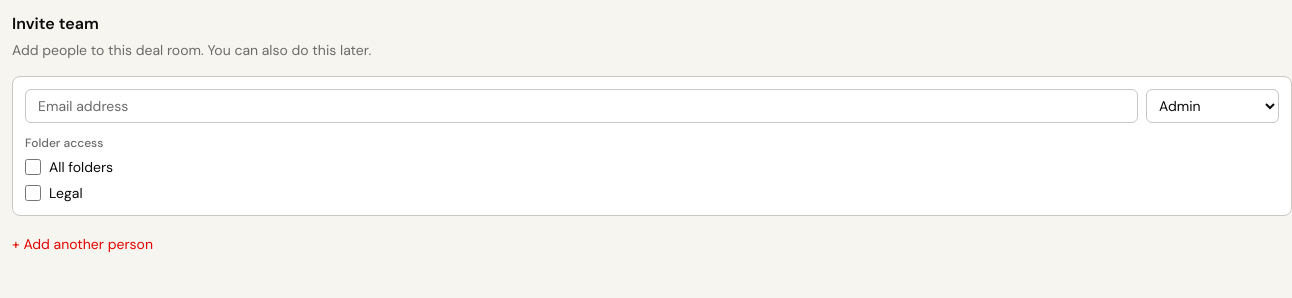
StepInvite › shows folder hint when non-admin/non-cis_team role has no folders selected
// Change to 'client' to trigger hint (default admin doesn't show hint)
Select "Client" in the dropdown named "role 1" at (1212, 106), box [1146, 89, 1279, 123]
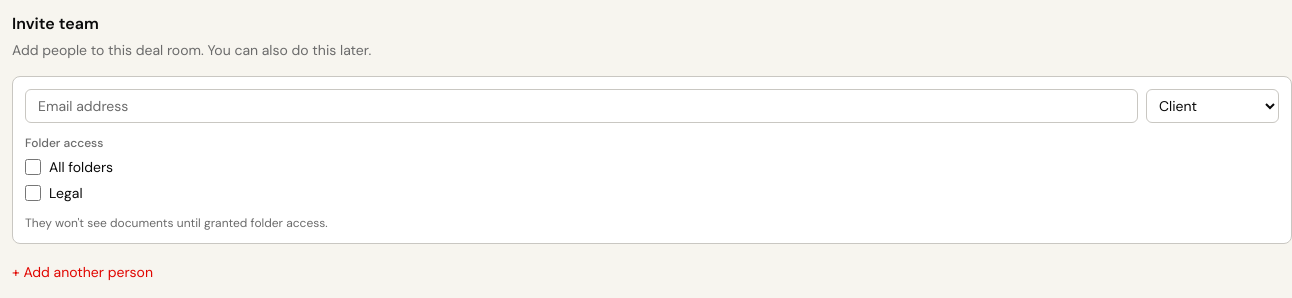
Check: the text "They won't see documents until granted folder access." is shown, box [25, 215, 328, 231]
